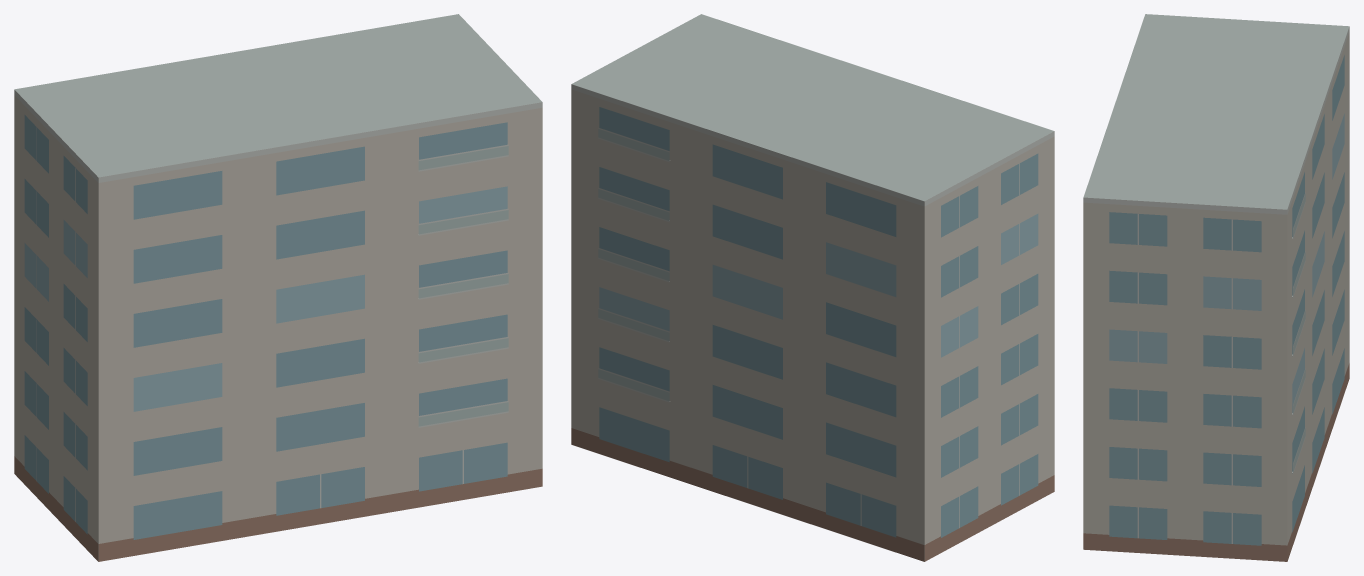
The model's file is survey-upis-32750570.glb.
3 views of the same model, side by side, from view 1: azimuth 30°, elevation 25°; view 2: azimuth 150°, elevation 25°; view 3: azimuth 270°, elevation 25° (orthographic). The views are drawn at different scales.
Parts seen in each view (by area): view 1: survey-upis-32750570.tmp; view 2: survey-upis-32750570.tmp; view 3: survey-upis-32750570.tmp.
Boxes of the visible parts, x1,y1,x2,y2 form: survey-upis-32750570.tmp: (14, 14, 542, 561); survey-upis-32750570.tmp: (571, 14, 1054, 561); survey-upis-32750570.tmp: (1083, 14, 1349, 561).
Size of the model in its own units: 20.27 by 17 by 11.66.
